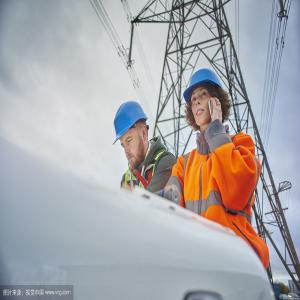blue: (114, 98, 154, 170), (184, 68, 227, 133)
